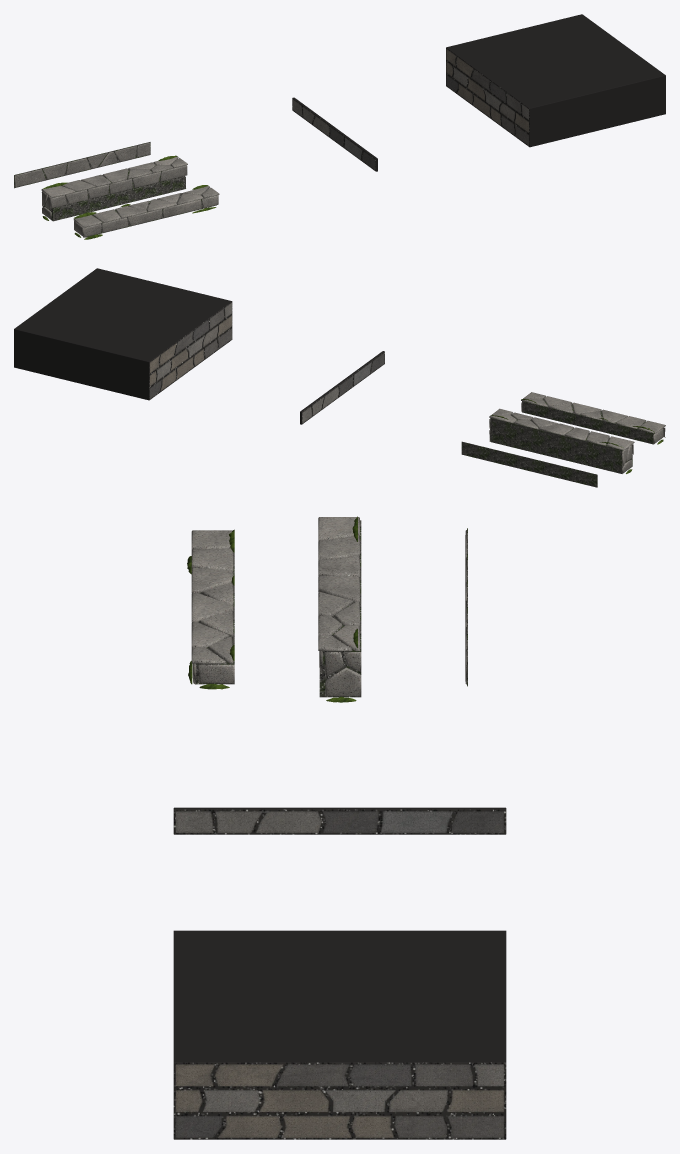
The model's file is stonesteps.glb.
3 renders of one model, top to bottom at view 1: azimuth 30°, elevation 25°; view 2: azimuth 150°, elevation 25°; view 3: azimuth 270°, elevation 25°, orthographic. The views are drawn at different scales.
Parts seen in each view (by area): view 1: StoneFoot, StoneStep1, StoneStep2, StoneStep0, StoneSide; view 2: StoneFoot, StoneStep1, StoneStep2, StoneStep0, StoneSide; view 3: StoneFoot, StoneSide, StoneStep1, StoneStep2.
Boxes of the visible parts, x1,y1,x2,y2 form: StoneFoot: [446, 14, 665, 147]; StoneStep1: [41, 155, 187, 221]; StoneStep2: [73, 185, 219, 239]; StoneStep0: [14, 142, 150, 188]; StoneSide: [292, 97, 377, 171]; StoneFoot: [14, 268, 232, 400]; StoneStep1: [489, 408, 634, 473]; StoneStep2: [521, 392, 665, 444]; StoneStep0: [461, 441, 597, 487]; StoneSide: [300, 351, 384, 424]; StoneFoot: [173, 930, 506, 1139]; StoneSide: [173, 807, 506, 834]; StoneStep1: [318, 516, 361, 702]; StoneStep2: [187, 529, 234, 689].
Bounding box in the file's own units: 5.25 × 0.337 × 1.32.
4 materials, 4 textured.
